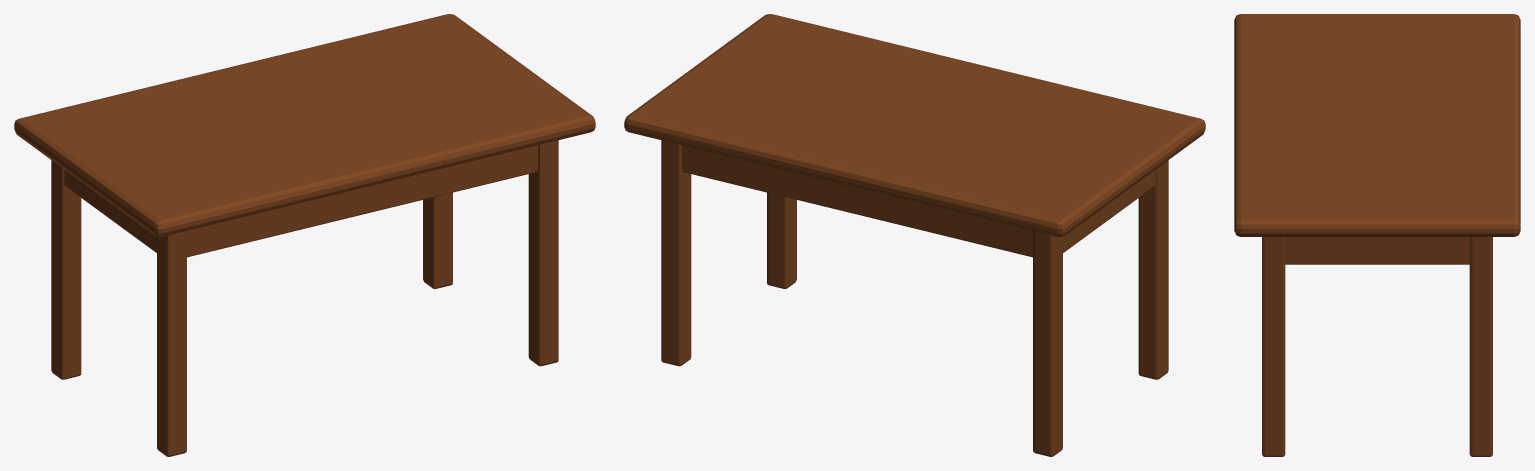
Rendered from edited.glb.
3 views of the same model, side by side, from view 1: azimuth 30°, elevation 25°; view 2: azimuth 150°, elevation 25°; view 3: azimuth 270°, elevation 25° (orthographic).
Parts seen in each view (by area): view 1: TOP, APRON_Side.001, LEG, LEG.002, LEG.001, LEG.003, APRON_End.001; view 2: TOP, APRON_Side, LEG.001, LEG.003, LEG, LEG.002, APRON_End.001; view 3: TOP, LEG.002, LEG.003, APRON_End.
Part boxes in pixels (x1,y1,x2,y2): TOP: [14, 14, 595, 236]; APRON_Side.001: [187, 145, 537, 257]; LEG: [157, 231, 186, 456]; LEG.002: [528, 140, 558, 366]; LEG.001: [51, 160, 81, 379]; LEG.003: [423, 192, 452, 288]; APRON_End.001: [64, 170, 156, 252]; TOP: [624, 14, 1205, 236]; APRON_Side: [682, 145, 1032, 257]; LEG.001: [1033, 231, 1062, 456]; LEG.003: [661, 140, 691, 366]; LEG: [1138, 160, 1168, 379]; LEG.002: [767, 192, 796, 288]; APRON_End.001: [1063, 170, 1155, 252]; TOP: [1234, 14, 1520, 236]; LEG.002: [1262, 237, 1285, 456]; LEG.003: [1469, 237, 1492, 456]; APRON_End: [1285, 237, 1469, 264].
Bounding box in the file's own units: 1.4 × 0.76 × 0.8.
